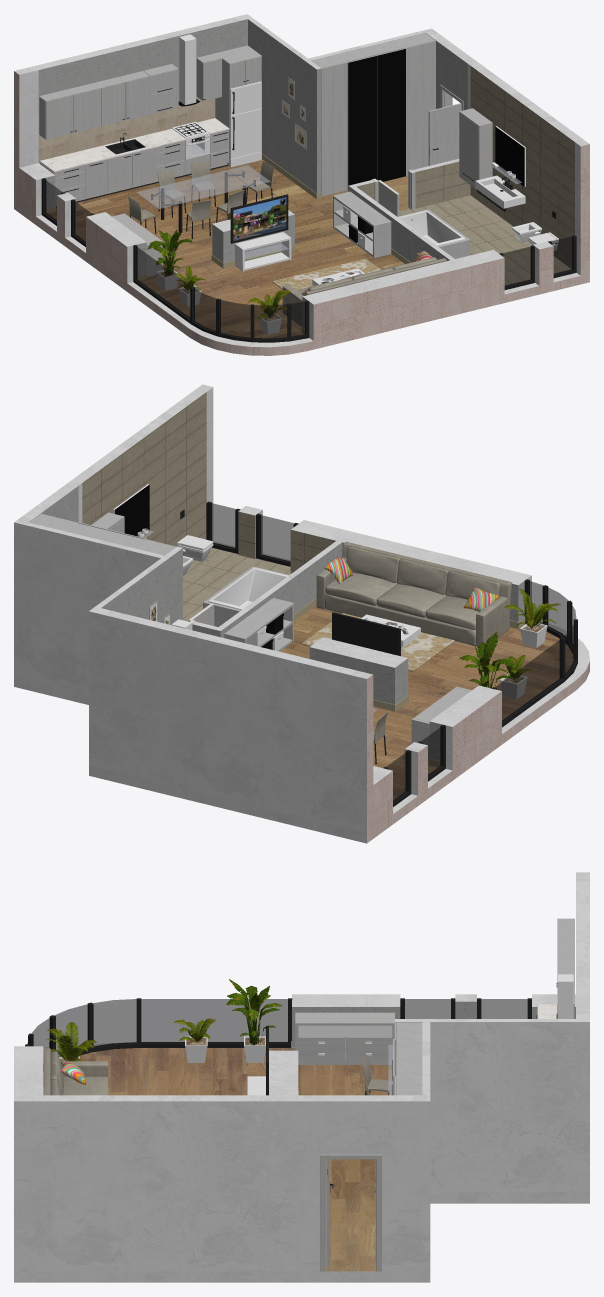
File: Interior.FBX
The picture shows the model from 3 angles, top to bottom: view 1: azimuth 30°, elevation 25°; view 2: azimuth 150°, elevation 25°; view 3: azimuth 270°, elevation 25°; orthographic projection. The views are drawn at different scales.
Visible parts, largest first — view 1: walls001, Kitchen001, cupboard001, Table001, icebox001, Bath_group_002, Bath_ambry001, TV001, Door_003, rack001, Sofa001, bathtub001 (+12 smaller); view 2: walls001, Sofa001, bathtub001, TV001, cupboard001, rack001, carpet001, Bath_group_002, jungle_bush001, rack_003, jungle_bush_palm003, toilet001 (+1 smaller); view 3: walls001, rack_003, Sofa001, Door_003, cupboard001, Kitchen001, jungle_bush001, jungle_bush_palm003, jungle_bush_palm002.
Part boxes in pixels (x1,y1,x2,y2): walls001: (14, 14, 589, 355); Kitchen001: (39, 34, 261, 207); cupboard001: (311, 33, 435, 196); Table001: (136, 165, 270, 232); icebox001: (230, 81, 261, 167); Bath_group_002: (475, 126, 525, 211); Bath_ambry001: (459, 108, 492, 189); TV001: (230, 194, 288, 243); Door_003: (428, 84, 463, 165); rack001: (333, 191, 391, 258); Sofa001: (282, 251, 446, 326); bathtub001: (397, 209, 469, 258); walls001: (14, 384, 589, 843); Sofa001: (316, 542, 511, 646); bathtub001: (203, 566, 289, 626); TV001: (332, 612, 400, 656); cupboard001: (29, 513, 176, 555); rack001: (224, 598, 293, 651); carpet001: (301, 613, 454, 671); Bath_group_002: (113, 484, 153, 537); jungle_bush001: (459, 631, 516, 688); rack_003: (411, 686, 471, 761); jungle_bush_palm003: (503, 588, 561, 629); toilet001: (177, 509, 213, 561); walls001: (14, 872, 589, 1282); rack_003: (295, 1012, 394, 1064); Sofa001: (43, 1047, 108, 1095); Door_003: (320, 1154, 382, 1271); cupboard001: (393, 1022, 422, 1095); Kitchen001: (536, 918, 574, 1018); jungle_bush001: (226, 979, 282, 1045); jungle_bush_palm003: (46, 1022, 97, 1061); jungle_bush_palm002: (174, 1018, 216, 1042).
Size of the model in its own units: 8673 by 3200 by 9201.
